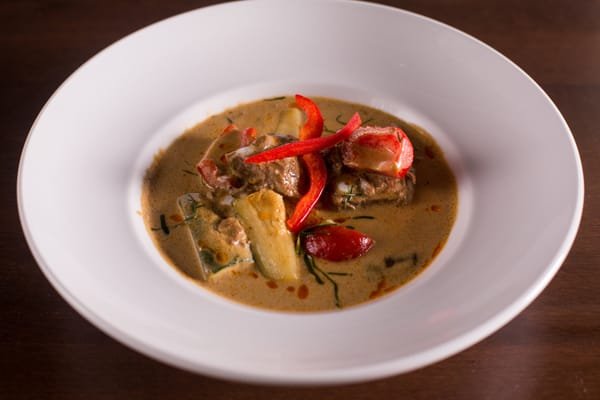sushi: (125, 86, 460, 315)
